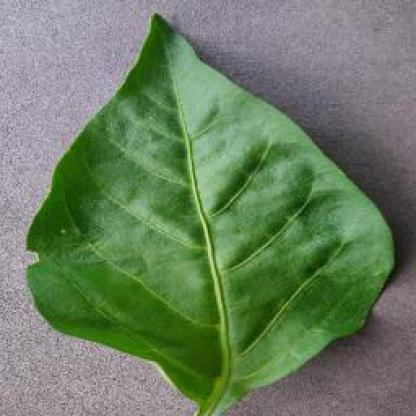good leaf: (48, 30, 372, 378)
